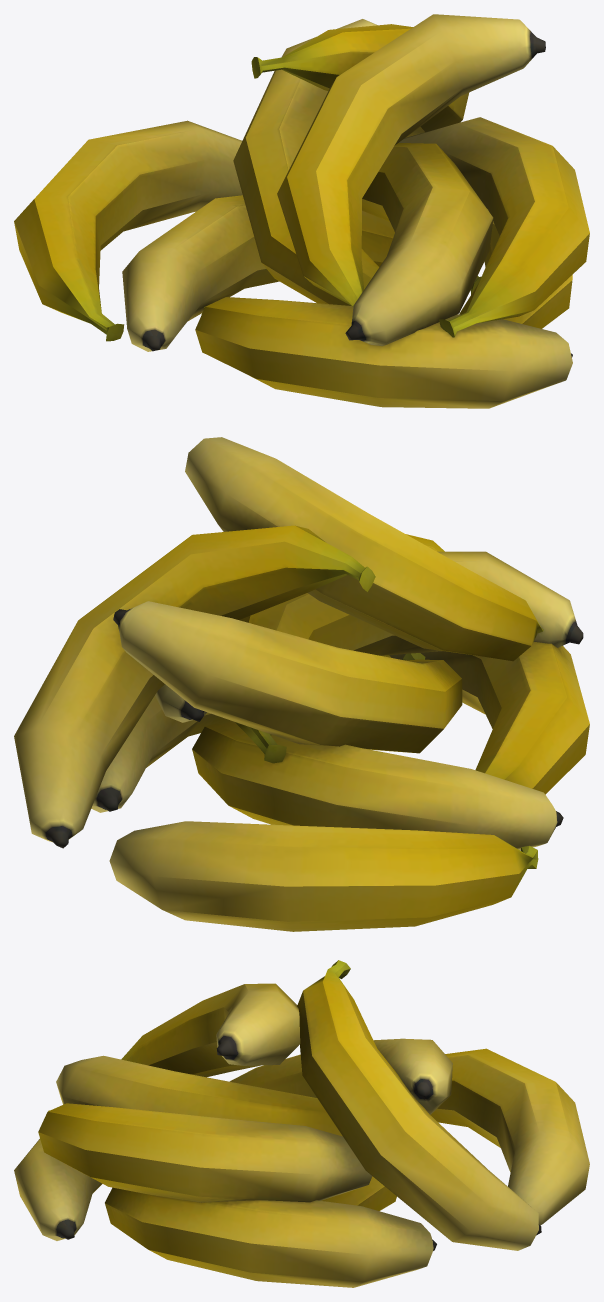
Rendered from banana_pile.glb.
3 views of the same model, one above another, from view 1: azimuth 30°, elevation 25°; view 2: azimuth 150°, elevation 25°; view 3: azimuth 270°, elevation 25° (orthographic). The views are drawn at different scales.
Parts seen in each view (by area): view 1: banana_pile; view 2: banana_pile; view 3: banana_pile.
Boxes of the visible parts, bbox=[...] form: banana_pile: bbox=[14, 14, 589, 408]; banana_pile: bbox=[14, 437, 589, 931]; banana_pile: bbox=[14, 960, 589, 1287].
Size of the model in its own units: 0.4912 by 0.2959 by 0.6115.
1 material, 1 textured.
